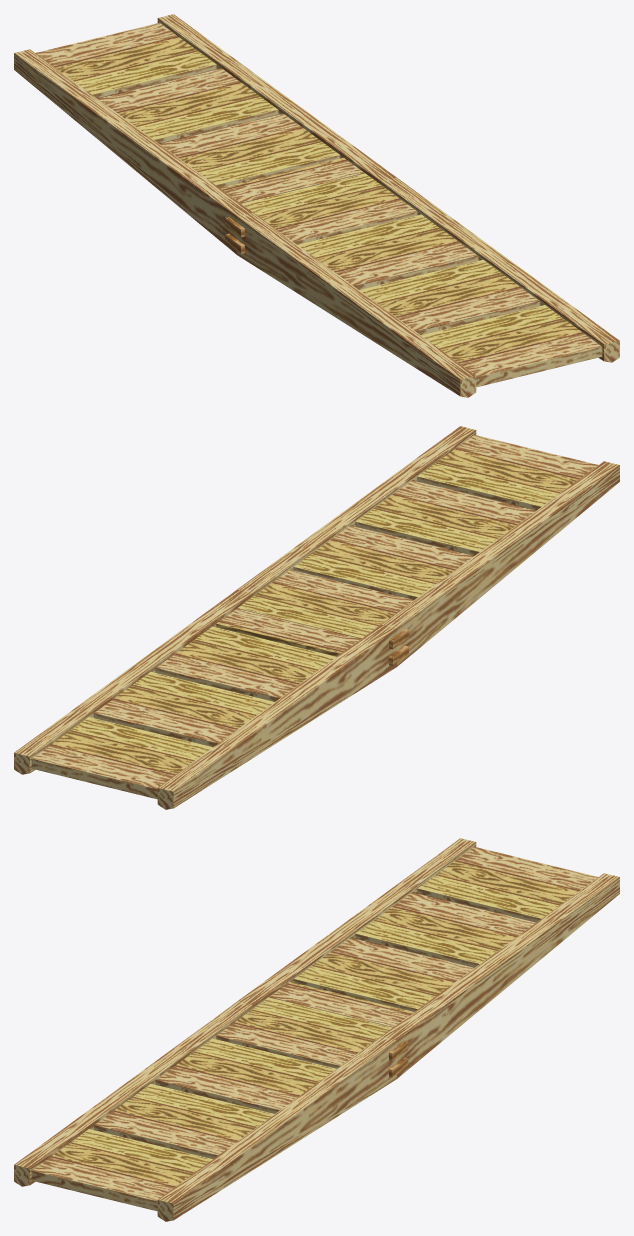
The model's file is biaturnbridge.dae.
3 renders of one model, top to bottom at view 1: azimuth 30°, elevation 25°; view 2: azimuth 150°, elevation 25°; view 3: azimuth 330°, elevation 25°, orthographic.
Visible parts, largest first — view 1: m0; view 2: m0; view 3: m0.
Part boxes in pixels (x1=…): m0: x1=14, y1=14, x2=619, y2=397; m0: x1=14, y1=426, x2=619, y2=809; m0: x1=14, y1=838, x2=619, y2=1221.
Size of the model in its own units: 524 by 126 by 2420.
Materials: 1 (1 with a texture image).
